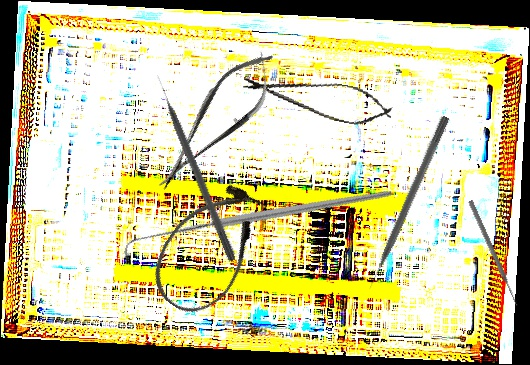Cannula: (138, 170, 281, 327)
Hook Surgical: (123, 112, 393, 334)
Micro Scissor: (139, 38, 292, 204), (239, 65, 396, 132)
Pusher: (153, 72, 239, 263), (363, 114, 451, 291), (466, 199, 521, 308)
